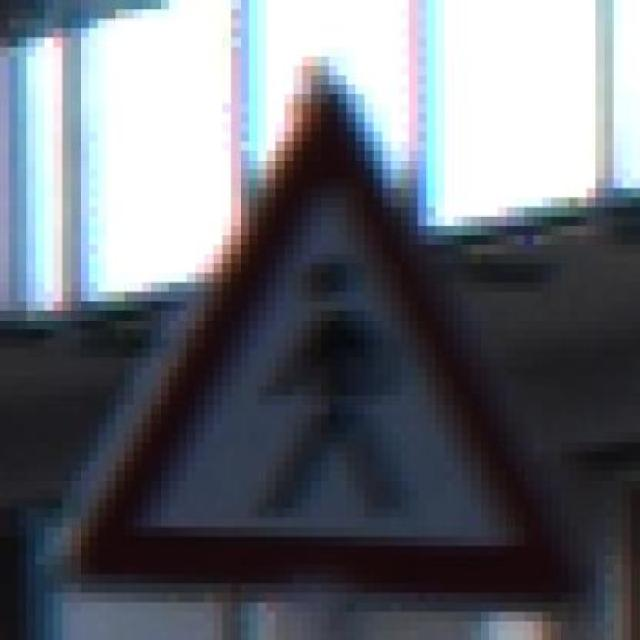Pedestrian Crossing: (53, 65, 604, 602)
